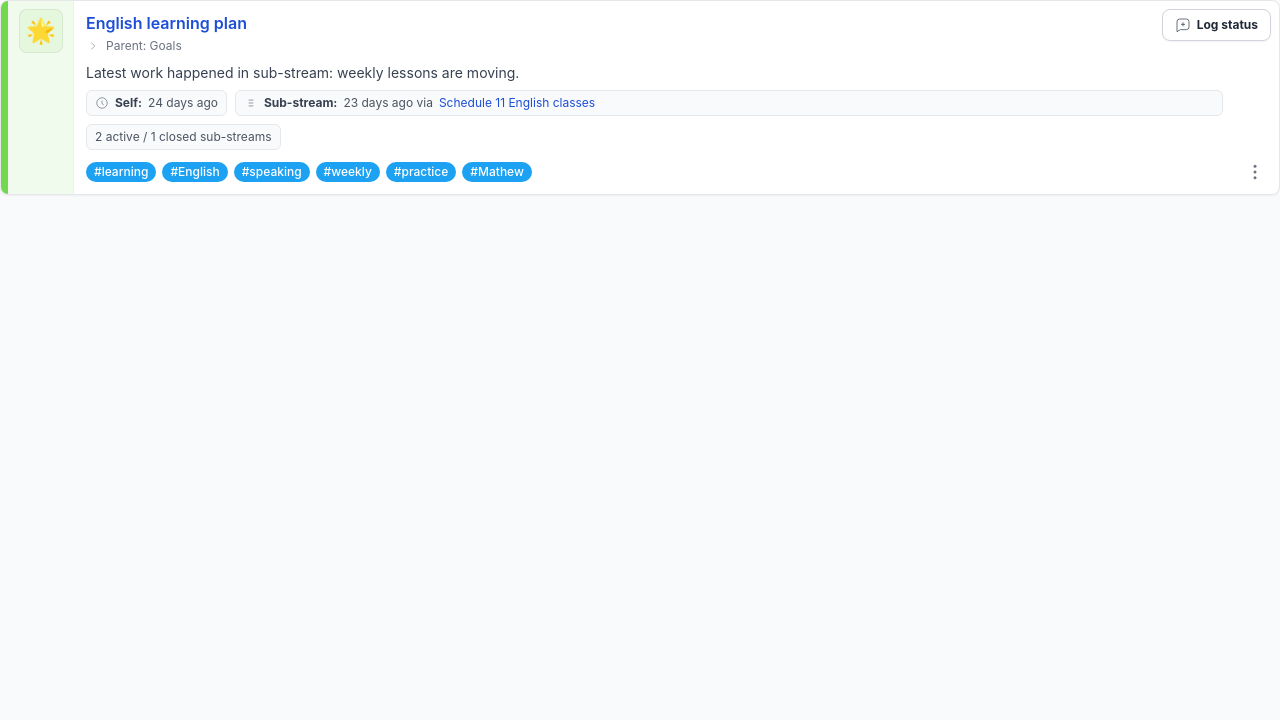
it: WorkstreamCard tile layout › updates the visible card immediately after a successful edit
Click the button named "More".
click(1255, 172)  # box [1239, 158, 1271, 186]
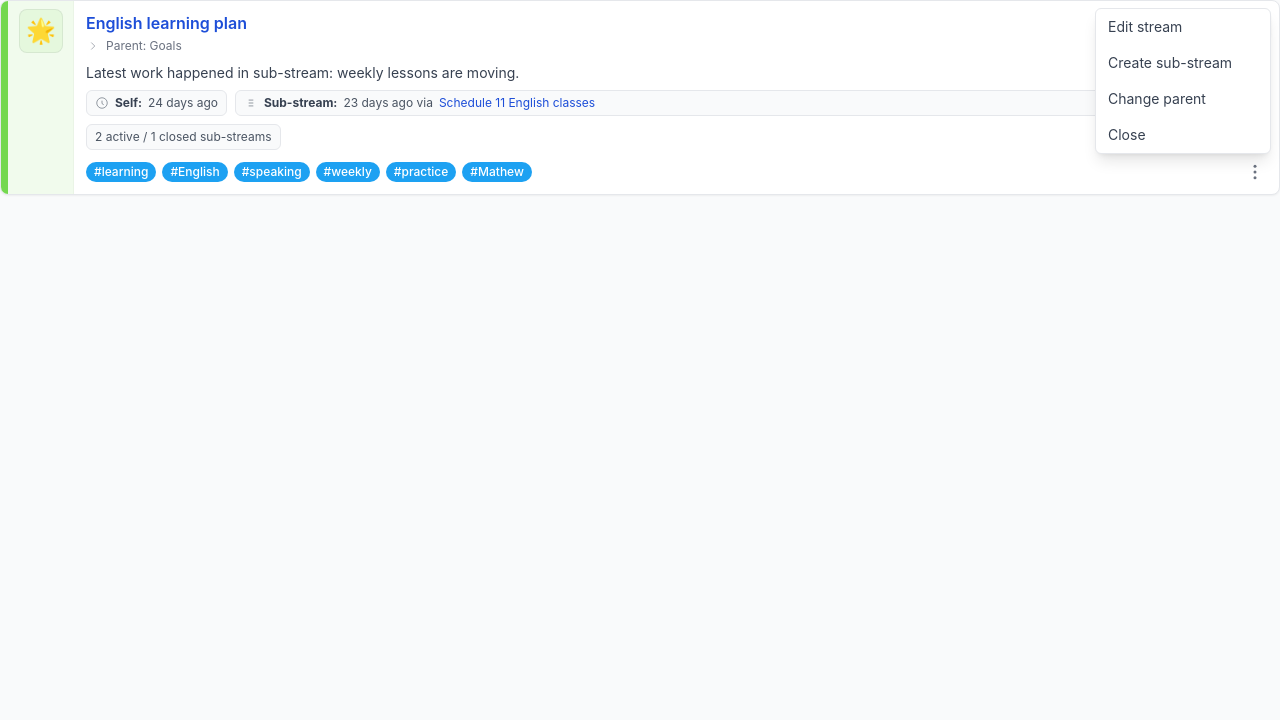
Click the button "Edit stream".
click(1183, 27)  # box [1096, 9, 1270, 45]
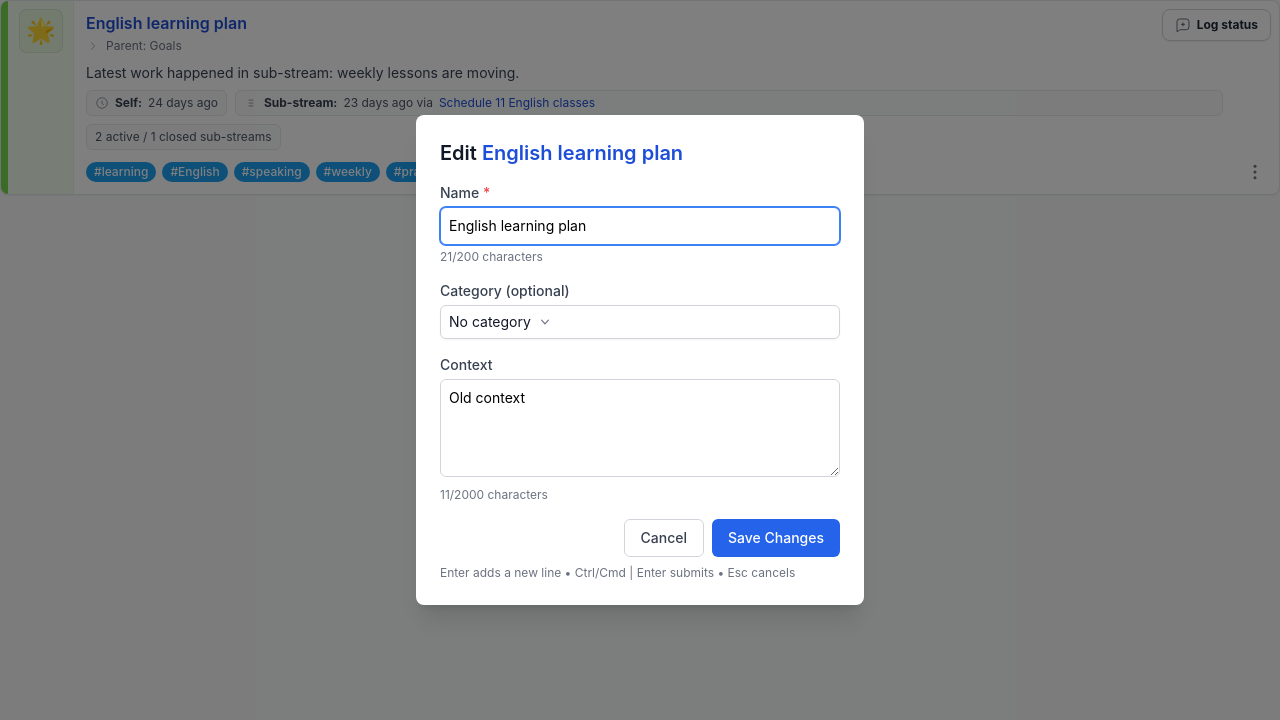
Replace the text in the field labelled "Name *" with "Corrected stream name" at (640, 226), box [440, 207, 840, 245]
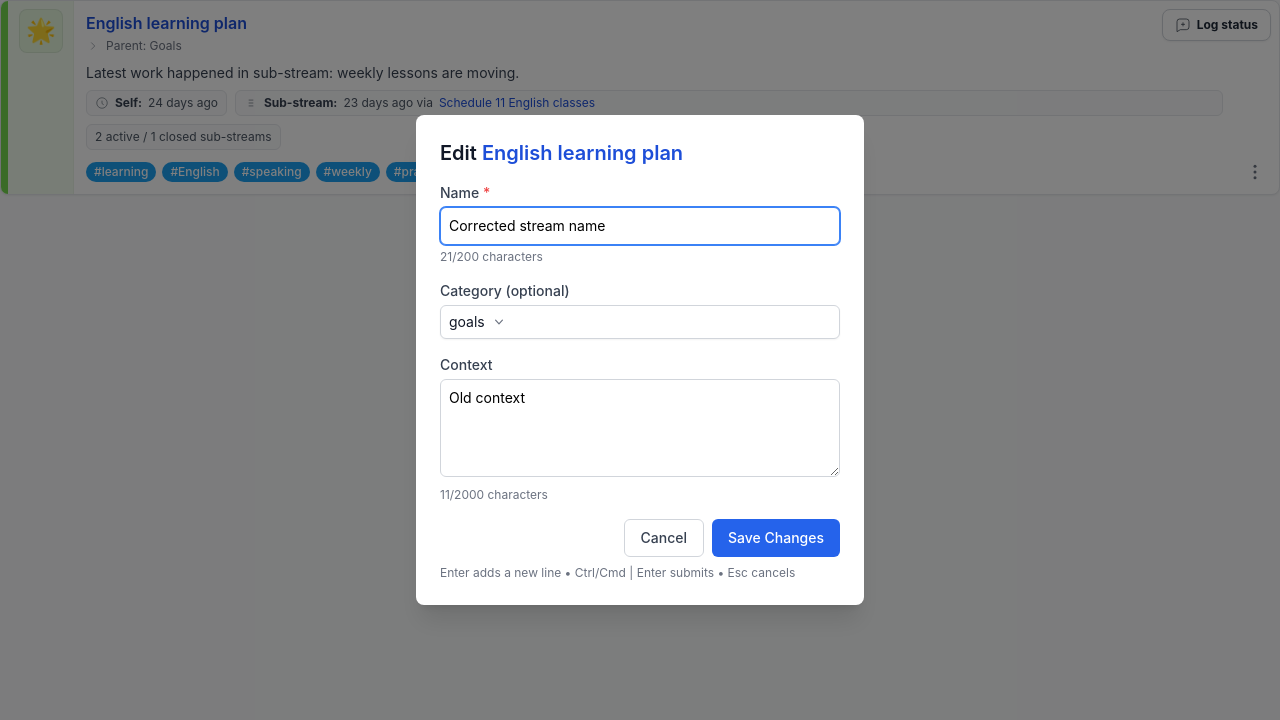
Replace the text in the text box labelled "Context" with "Corrected context" at (640, 428), box [440, 379, 840, 477]
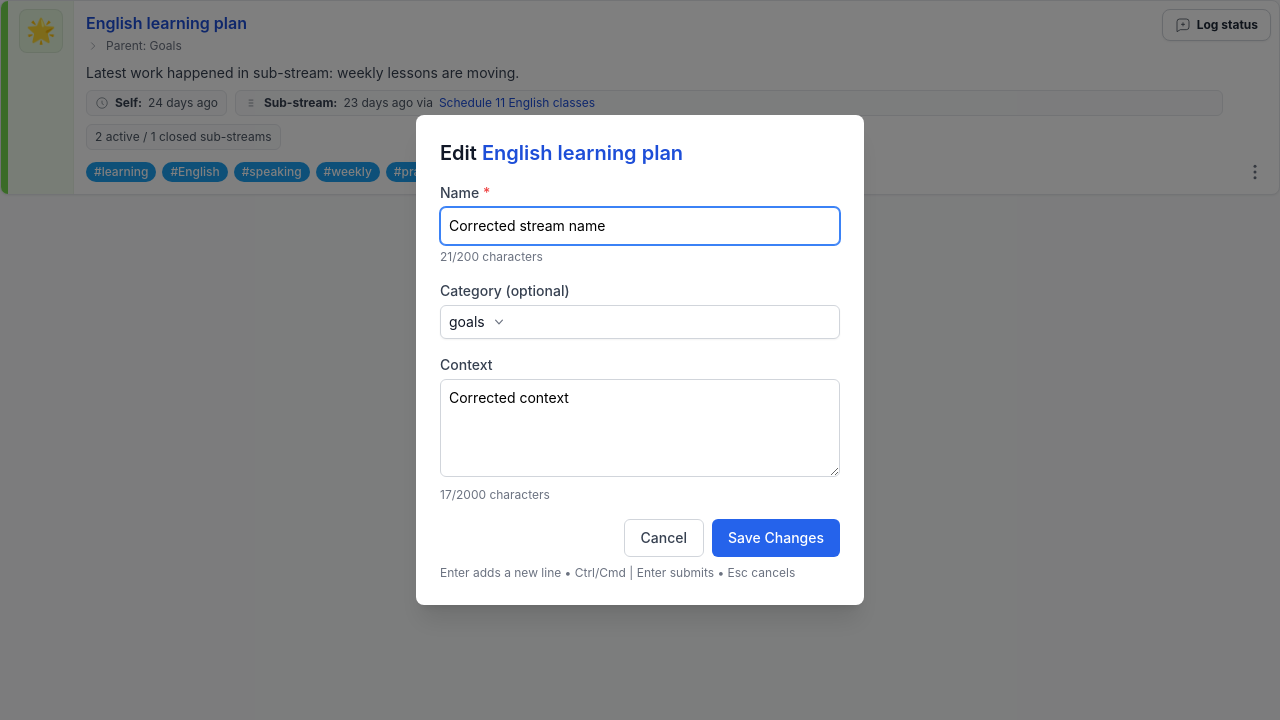
Click the button "Save Changes".
click(776, 538)  # box [712, 519, 840, 557]
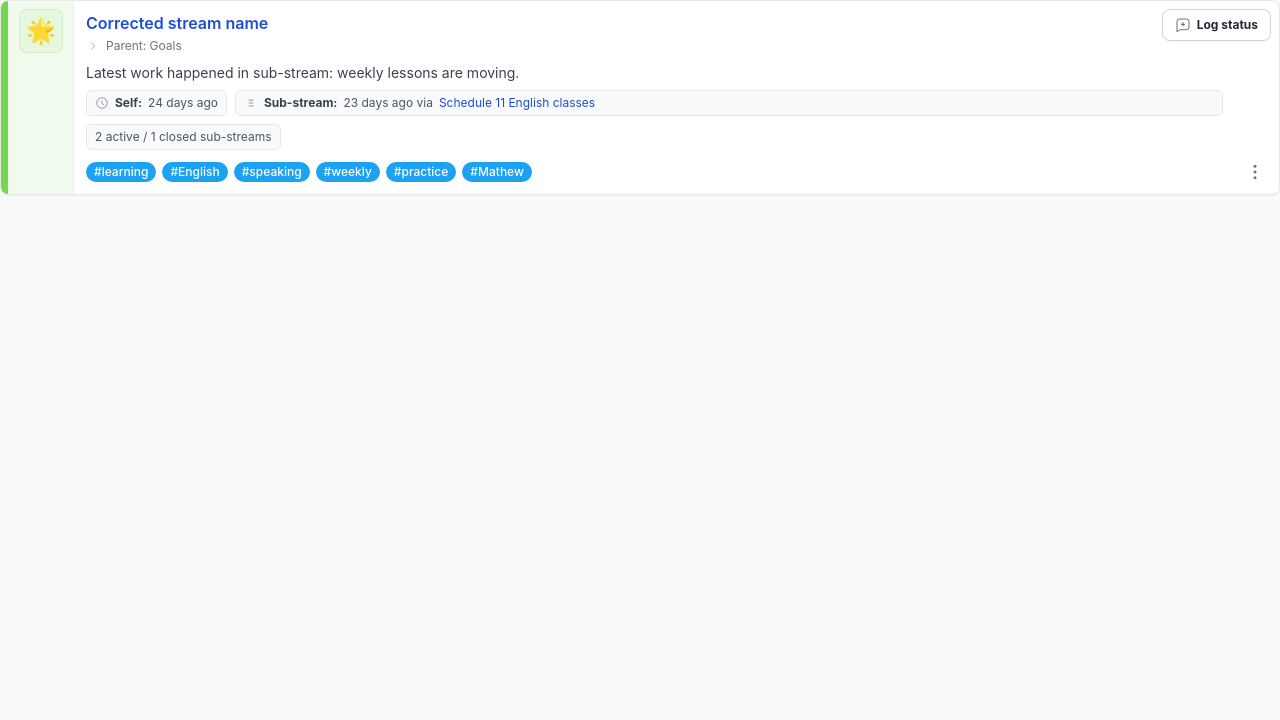
expect the heading "Corrected stream name" is shown: met, box [86, 13, 268, 33]
expect the button "Save Changes" is gone: met
